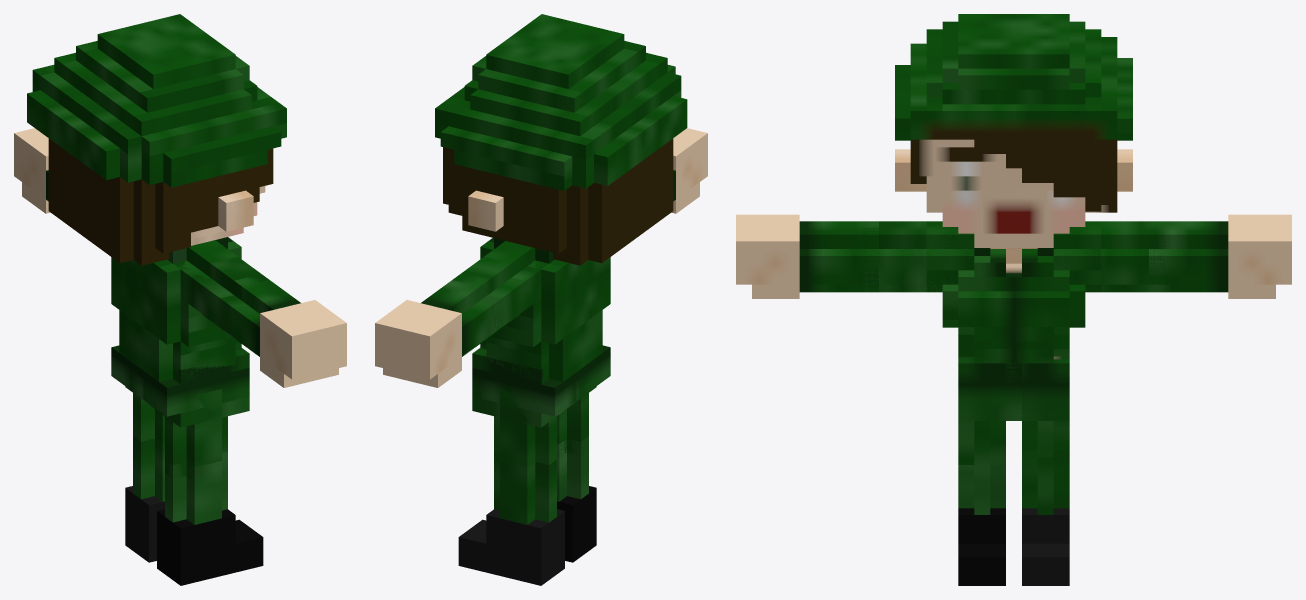
Rendered from Staxel_Female.fbx.
3 views of the same model, side by side, from view 1: azimuth 30°, elevation 25°; view 2: azimuth 150°, elevation 25°; view 3: azimuth 270°, elevation 25° (orthographic).
Visible parts, largest first — view 1: Head, Torso, LowerLeg_Right, Hand_Right, Thigh_Right, LowerLeg_Left, UpperLeg_Right, UpperArm_Right, LowerArm_Right, Hand_Left, UpperLeg_Left, Thigh_Left; view 2: Head, Torso, LowerLeg_Left, Hand_Left, Thigh_Left, LowerLeg_Right, UpperArm_Left, UpperLeg_Left, LowerArm_Left, Hand_Right, UpperLeg_Right, Thigh_Right; view 3: Head, Torso, LowerLeg_Left, LowerArm_Right, LowerArm_Left, LowerLeg_Right, Hand_Left, Hand_Right, UpperArm_Right, UpperArm_Left, Thigh_Right, Thigh_Left (+2 smaller).
Part boxes in pixels (left/top/right/bottom): Head: left=27, top=14, right=286, bottom=265; Torso: left=111, top=237, right=241, bottom=383; LowerLeg_Right: left=157, top=451, right=263, bottom=585; Hand_Right: left=260, top=300, right=346, bottom=387; Thigh_Right: left=143, top=347, right=249, bottom=427; LowerLeg_Left: left=125, top=436, right=164, bottom=562; UpperLeg_Right: left=165, top=389, right=227, bottom=480; UpperArm_Right: left=173, top=245, right=269, bottom=343; LowerArm_Right: left=220, top=276, right=300, bottom=356; Hand_Left: left=14, top=128, right=50, bottom=213; UpperLeg_Left: left=133, top=392, right=164, bottom=443; Thigh_Left: left=111, top=345, right=156, bottom=409; Head: left=435, top=14, right=687, bottom=265; Torso: left=480, top=238, right=610, bottom=383; LowerLeg_Left: left=458, top=451, right=564, bottom=585; Hand_Left: left=375, top=300, right=461, bottom=387; Thigh_Left: left=472, top=347, right=578, bottom=427; LowerLeg_Right: left=557, top=436, right=596, bottom=562; UpperArm_Left: left=452, top=242, right=548, bottom=343; UpperLeg_Left: left=494, top=389, right=556, bottom=467; LowerArm_Left: left=421, top=276, right=501, bottom=356; Hand_Right: left=671, top=128, right=707, bottom=213; UpperLeg_Right: left=557, top=393, right=588, bottom=457; Thigh_Right: left=565, top=345, right=610, bottom=409; Head: left=895, top=14, right=1132, bottom=248; Torso: left=926, top=221, right=1101, bottom=363; LowerLeg_Left: left=1022, top=450, right=1069, bottom=585; LowerArm_Right: left=799, top=221, right=878, bottom=292; LowerArm_Left: left=1149, top=221, right=1228, bottom=292; LowerLeg_Right: left=958, top=465, right=1005, bottom=585; Hand_Left: left=1228, top=214, right=1291, bottom=298; Hand_Right: left=736, top=214, right=799, bottom=298; UpperArm_Right: left=863, top=221, right=974, bottom=292; UpperArm_Left: left=1053, top=221, right=1164, bottom=292; Thigh_Right: left=958, top=356, right=1021, bottom=420; Thigh_Left: left=1006, top=356, right=1069, bottom=420.
Bounding box in the file's own units: 12 × 36 × 35.
1 material, 1 textured.
